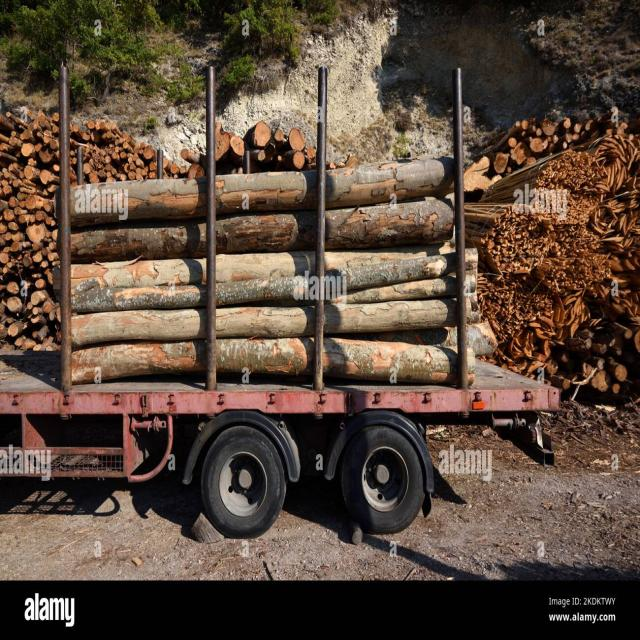Truck: (0, 154, 550, 528)
